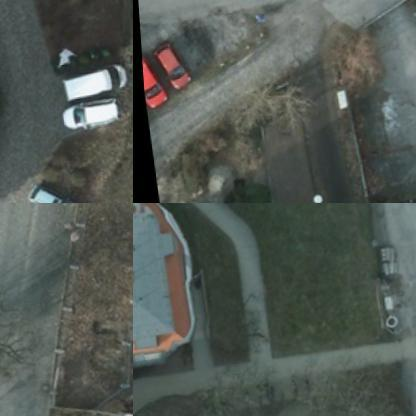car: (56, 60, 125, 104), (146, 35, 189, 94), (56, 96, 118, 132), (140, 50, 174, 110), (19, 177, 77, 202)
